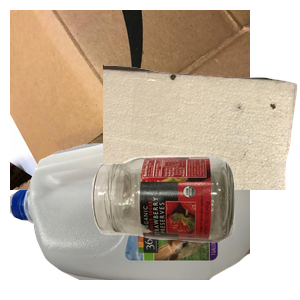cardboard: (10, 10, 250, 190)
glass: (89, 153, 300, 300)
plastic: (10, 120, 250, 300)
trash: (103, 62, 300, 242)
